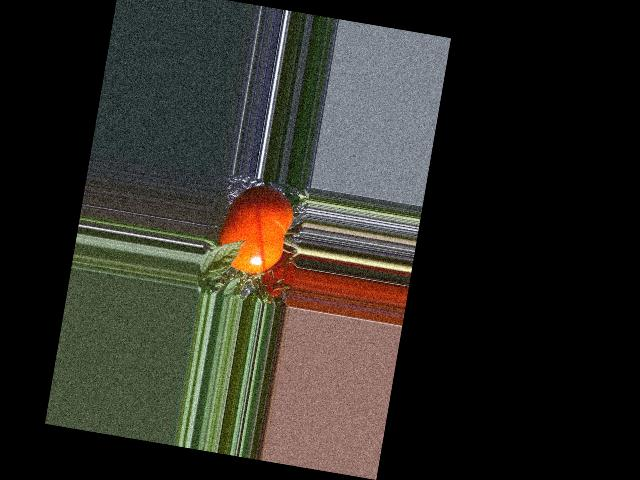tomato: (214, 180, 297, 278)
